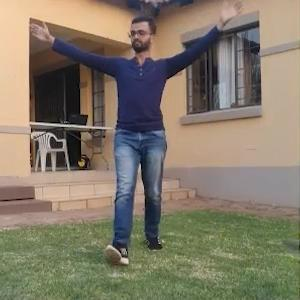takeoff: (14, 0, 227, 272)
